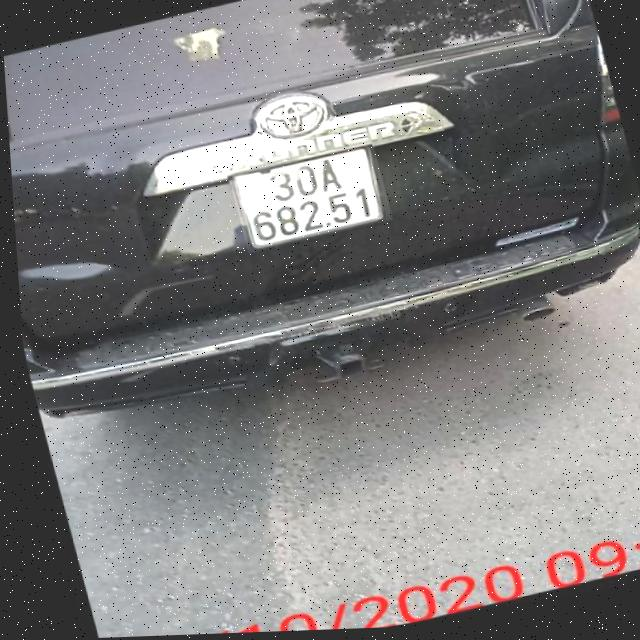car: (0, 0, 640, 445)
plate: (223, 139, 393, 257)
